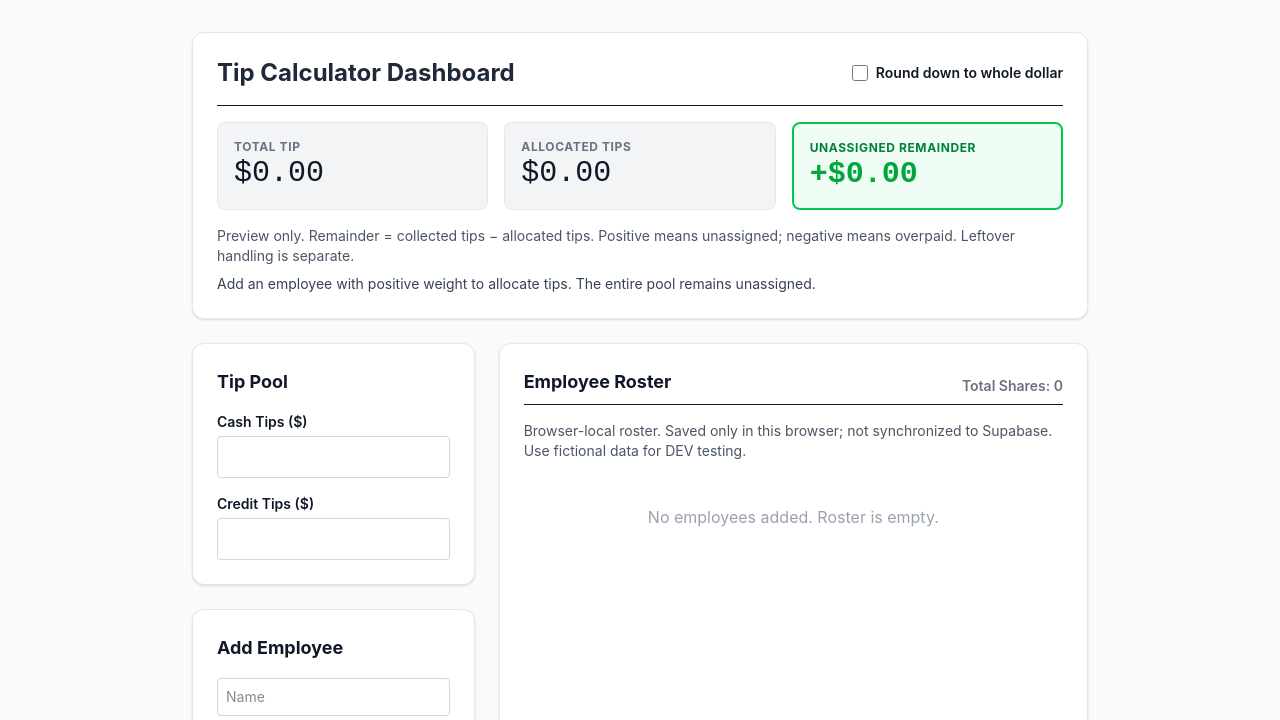
Test: TipSplitter interface › combines cash and credit, including blank fields as zero
Expected: the text "$0.00" below "Total Tip" is shown, [234,156,324,190]
Type "12.34" into the field labelled "Cash Tips ($)" at (333, 457), box [217,436,450,478]
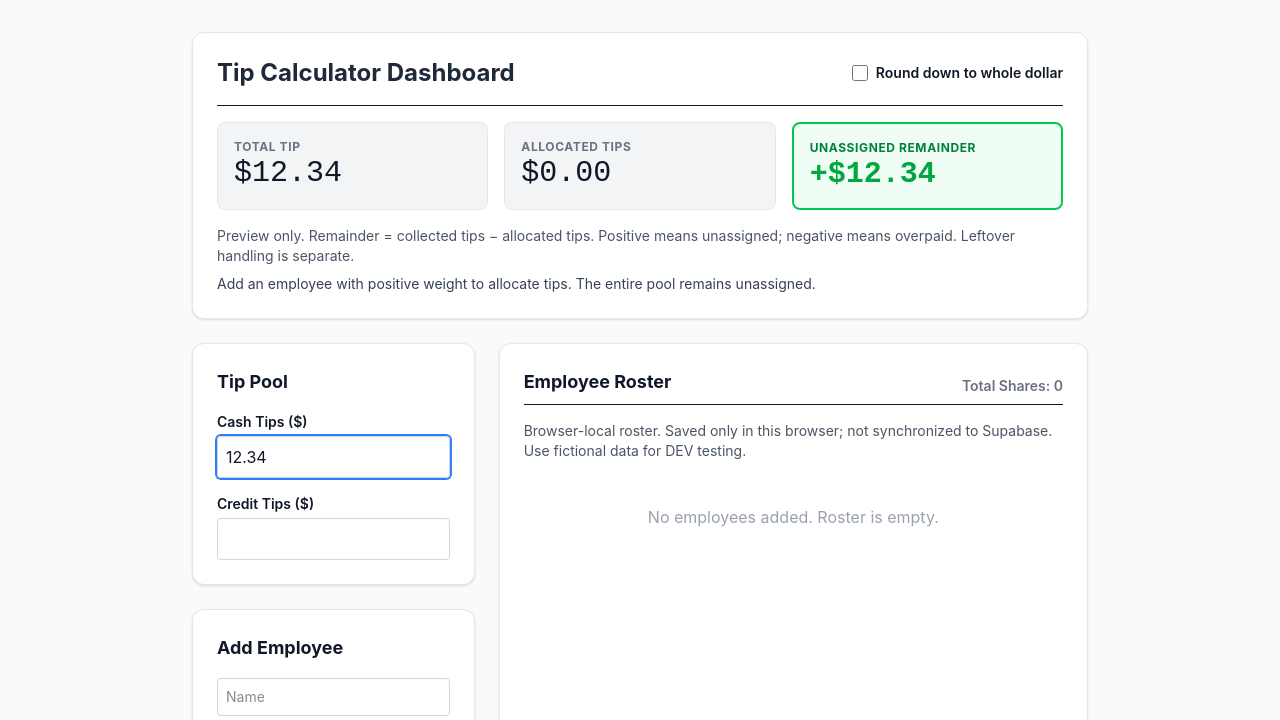
Result: the text "$12.34" is shown at [234,156,342,190]
Type "87.66" into the field labelled "Credit Tips ($)" at (333, 539), box [217,518,450,560]
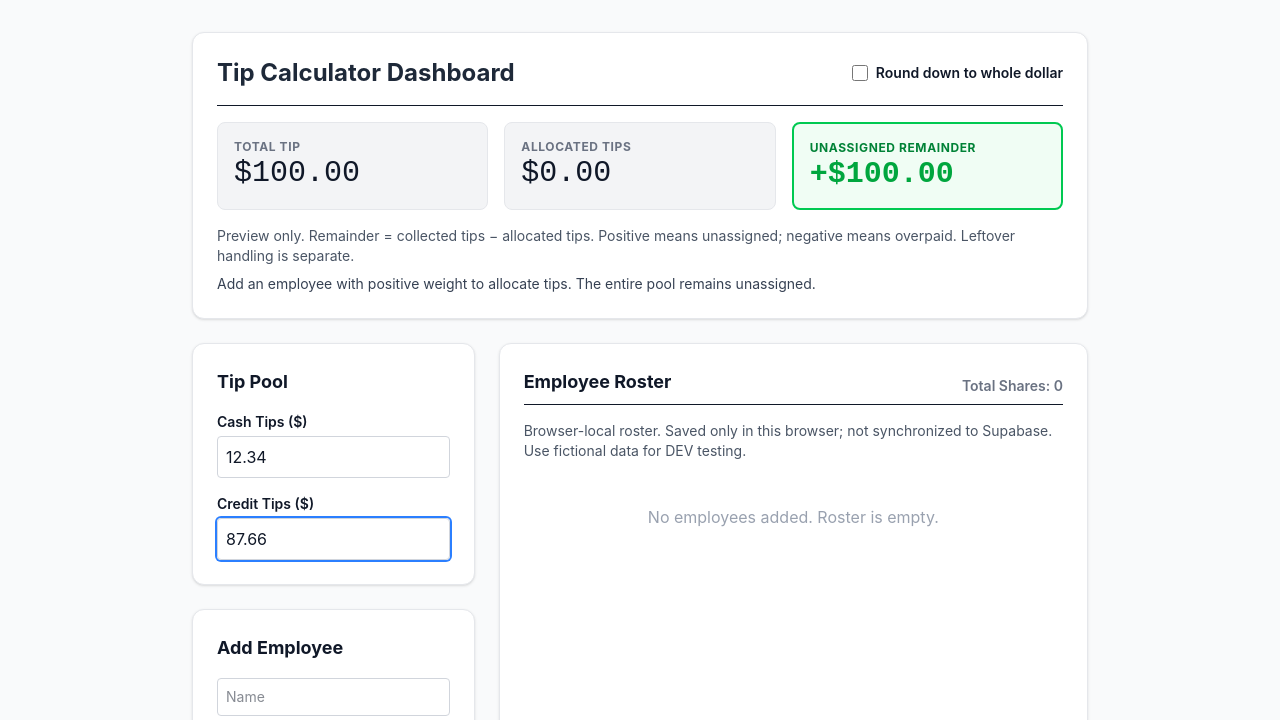
Result: the text "$100.00" is shown at [234,156,360,190]
Clear the field labelled "Cash Tips ($)" at (333, 457), box [217,436,450,478]
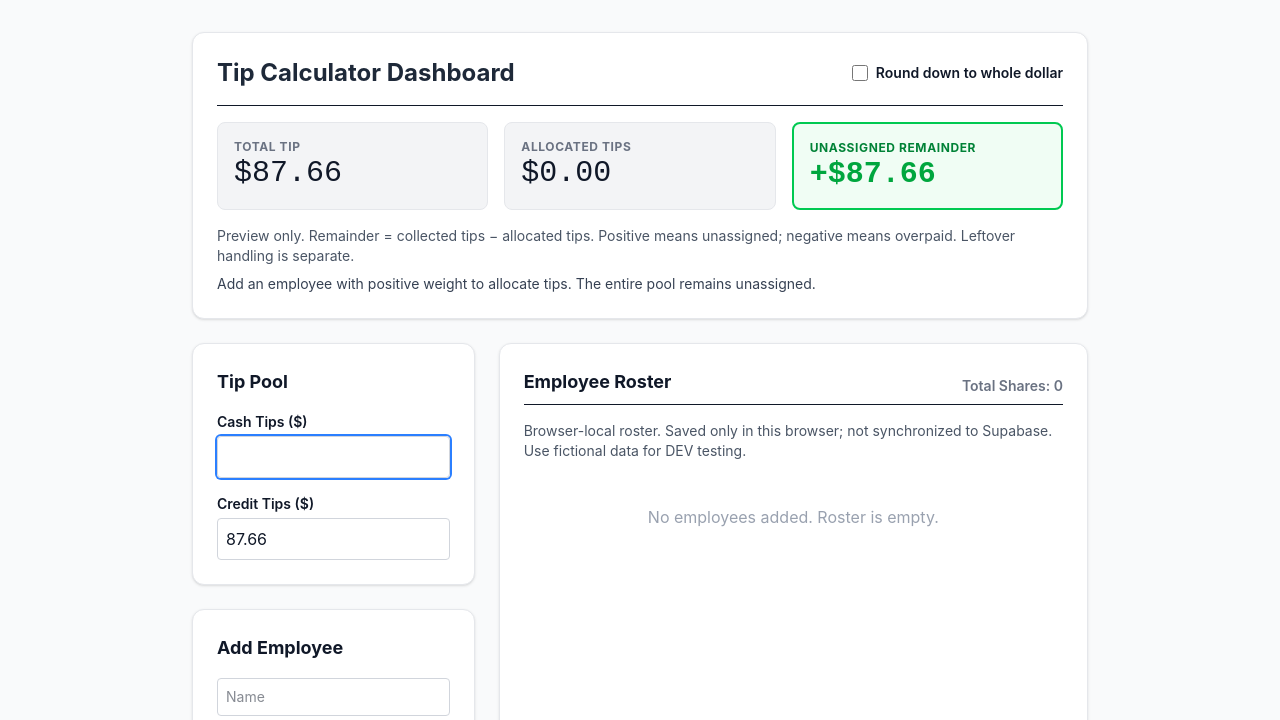
Result: the text "$87.66" is shown at [234,156,342,190]
